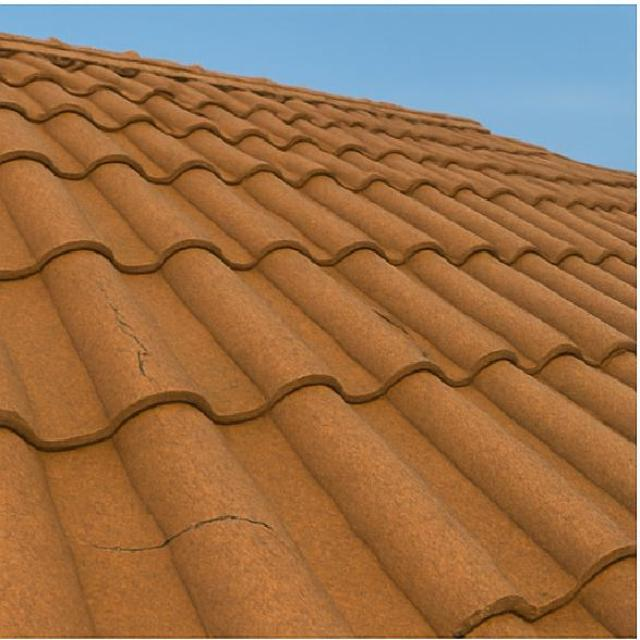fissure: (86, 279, 167, 399), (82, 508, 275, 558)
